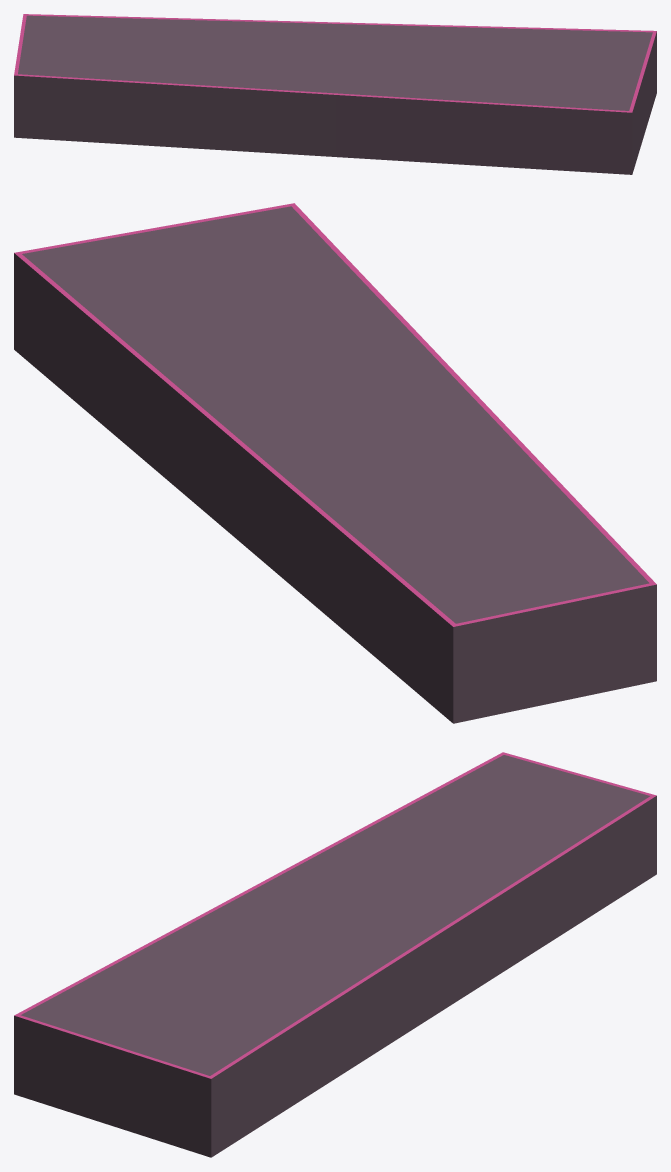
File: way-1362097344.glb
The picture shows the model from 3 angles, top to bottom: view 1: azimuth 30°, elevation 25°; view 2: azimuth 150°, elevation 25°; view 3: azimuth 270°, elevation 25°; orthographic projection. The views are drawn at different scales.
Parts seen in each view (by area): view 1: way-1362097344; view 2: way-1362097344; view 3: way-1362097344.
Part boxes in pixels (x1,y1,x2,y2): way-1362097344: (14,14,656,174); way-1362097344: (14,203,656,723); way-1362097344: (14,752,656,1157).
Size of the model in its own units: 26.67 by 3 by 22.17.
